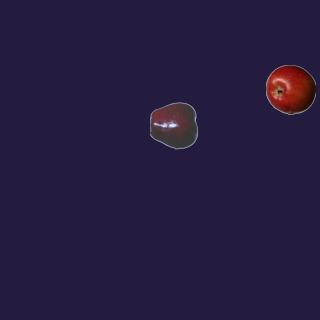Apple Braeburn: (265, 64, 315, 114)
Apple Red Delicious: (149, 100, 199, 150)
